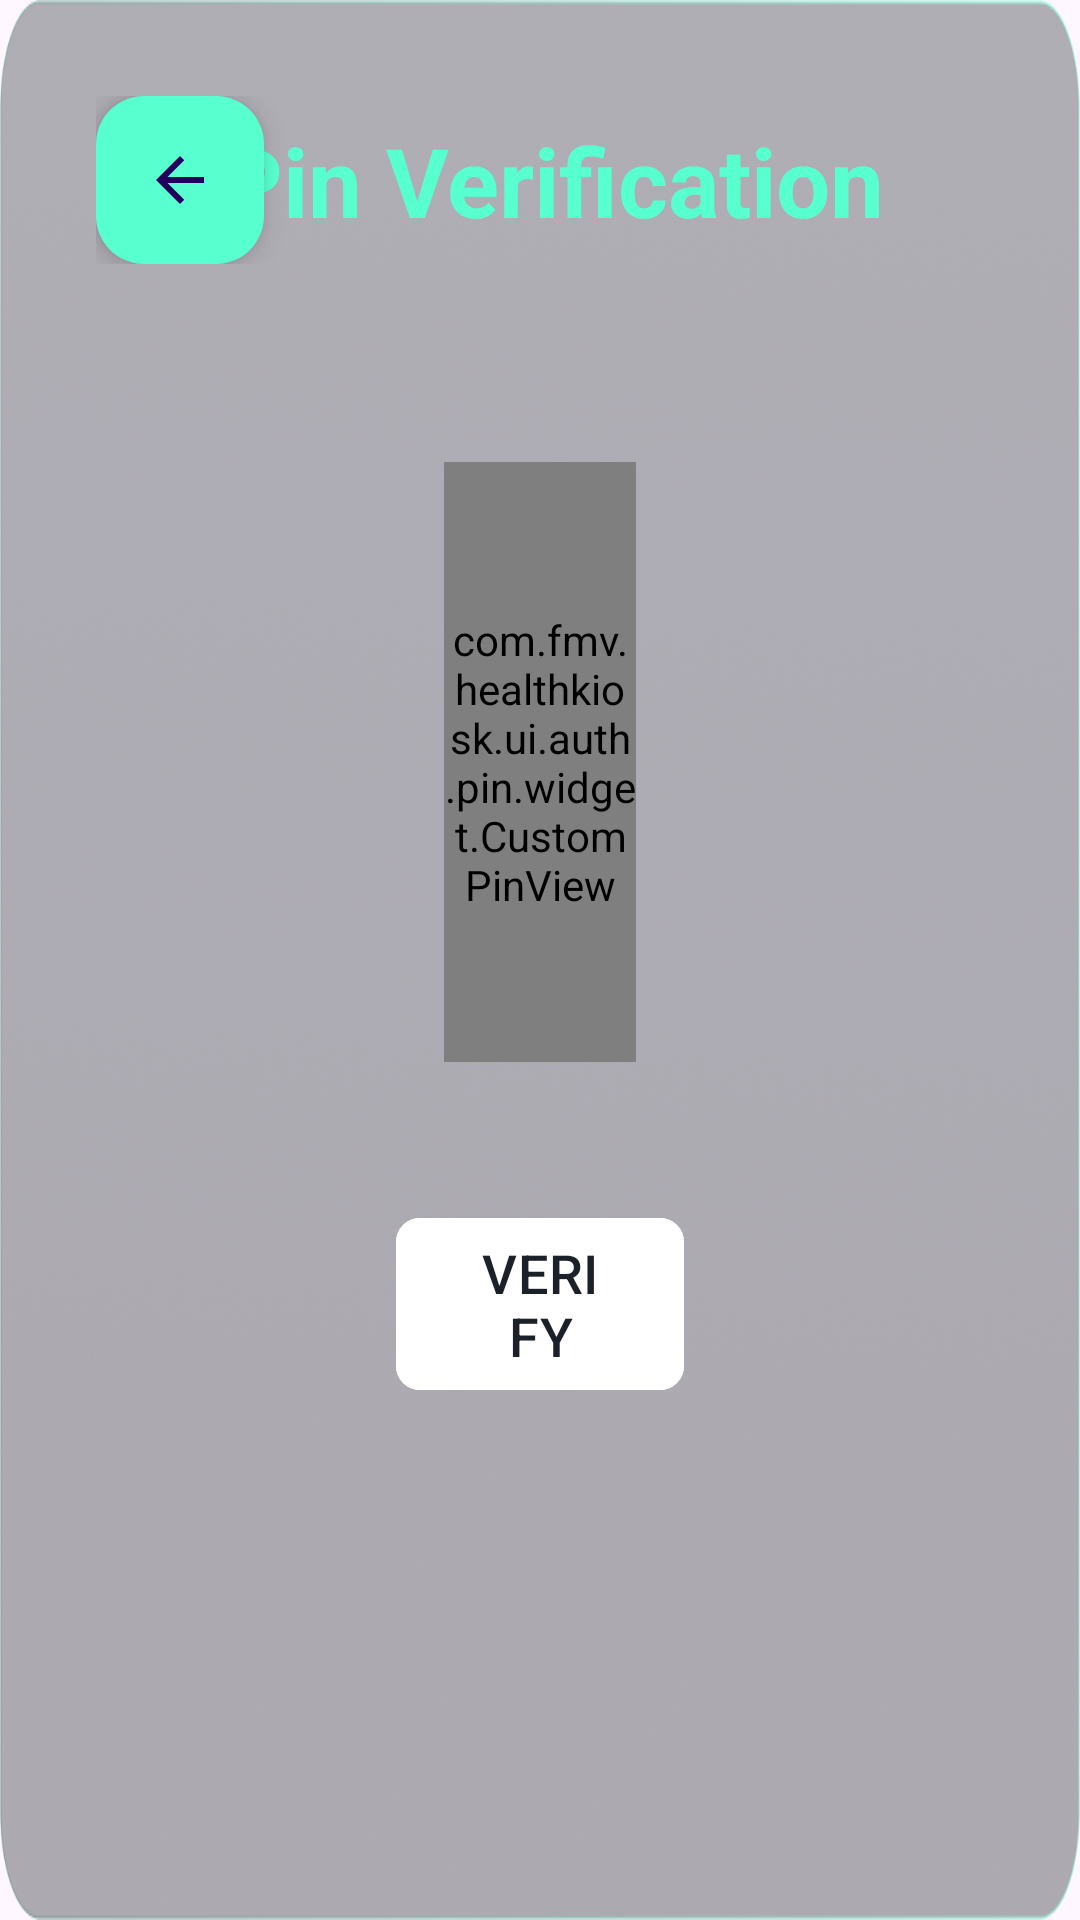

Where icons sit on this 1080×1920 app screen, as (x1, y1, x2, y2):
Back Button: (96, 96, 264, 264)
